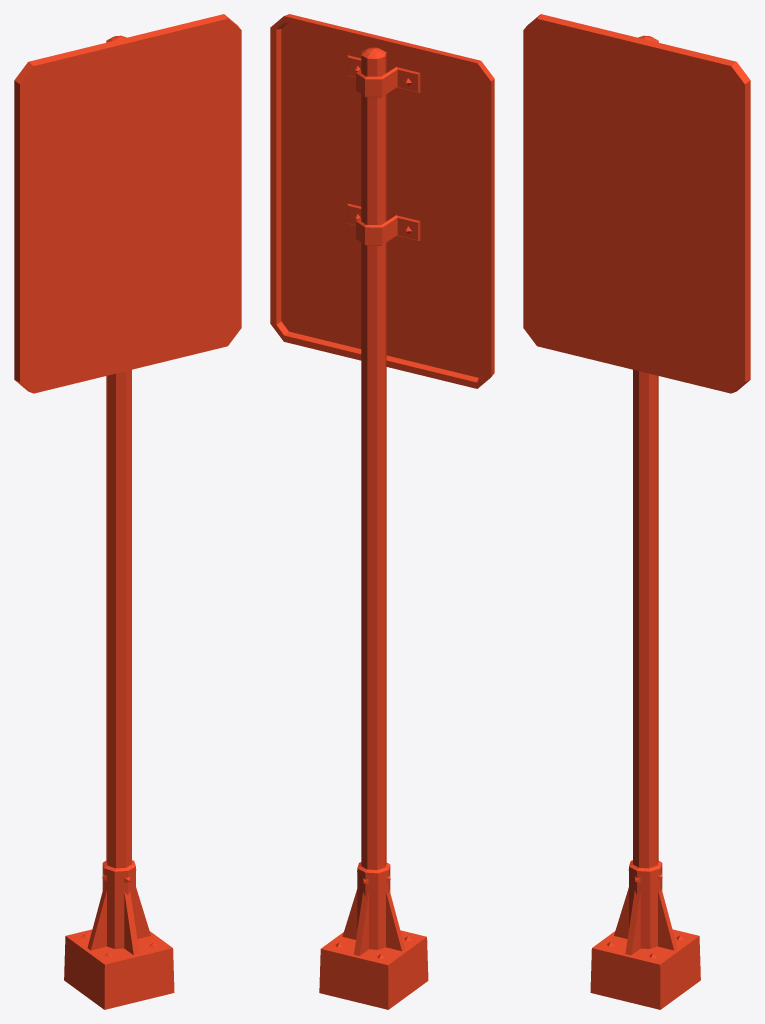
The model's file is SM_Sign_Speed_65_B_City.fbx.
3 views of the same model, side by side, from view 1: azimuth 30°, elevation 25°; view 2: azimuth 150°, elevation 25°; view 3: azimuth 330°, elevation 25° (orthographic).
Visible parts, largest first — view 1: SM_Sign_Speed_65_B_City; view 2: SM_Sign_Speed_65_B_City; view 3: SM_Sign_Speed_65_B_City.
Boxes of the visible parts, x1,y1,x2,y2 form: SM_Sign_Speed_65_B_City: [14, 14, 241, 1009]; SM_Sign_Speed_65_B_City: [270, 14, 494, 1009]; SM_Sign_Speed_65_B_City: [523, 14, 750, 1009].
Bounding box in the file's own units: 0.5876 × 2.39 × 0.1839.
